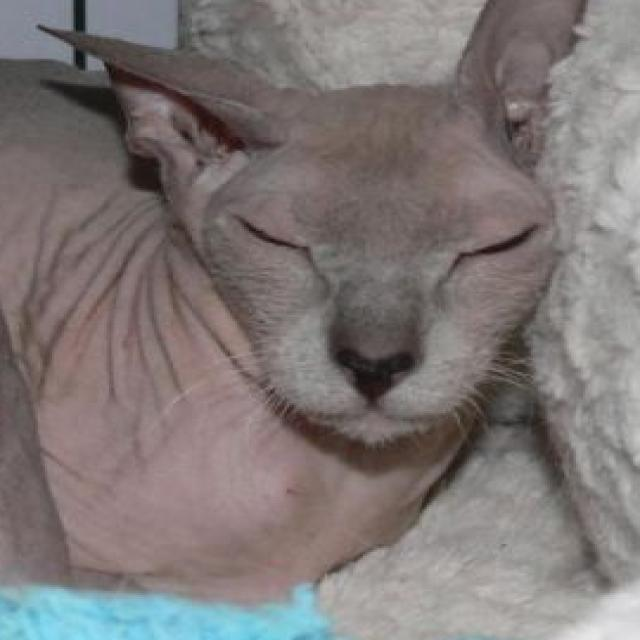Sphynx: (0, 0, 599, 618)
